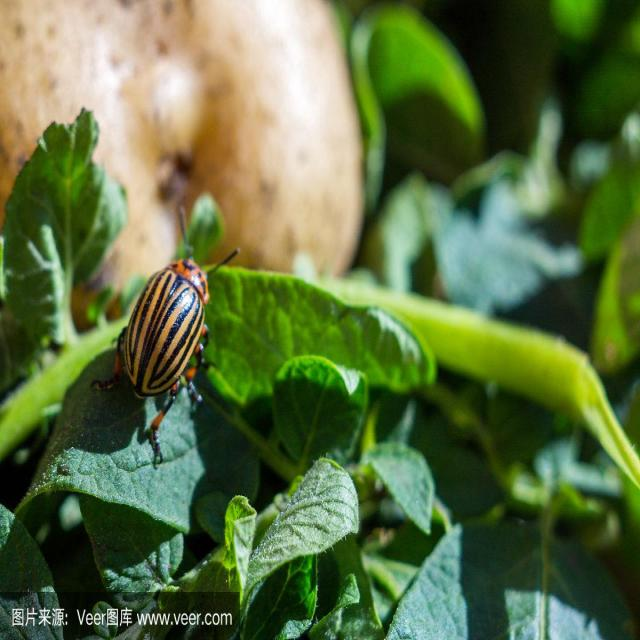ShuCaiHuaBanChong-Grown-: (108, 232, 214, 426)
